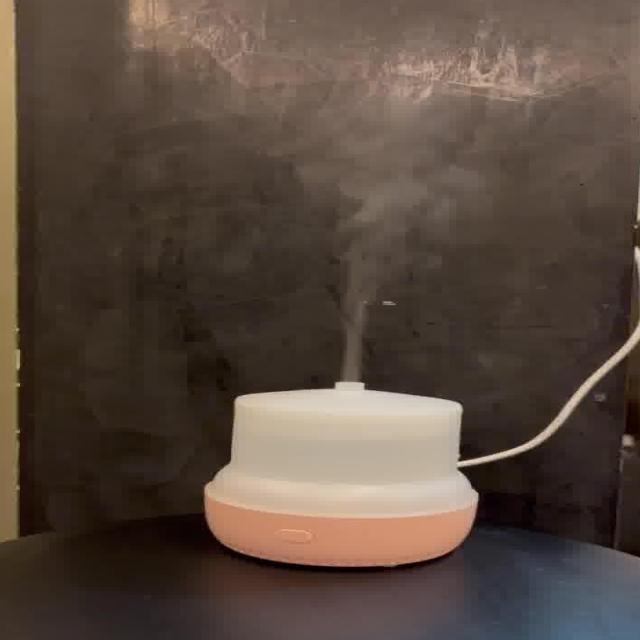fire: (286, 108, 479, 378)
